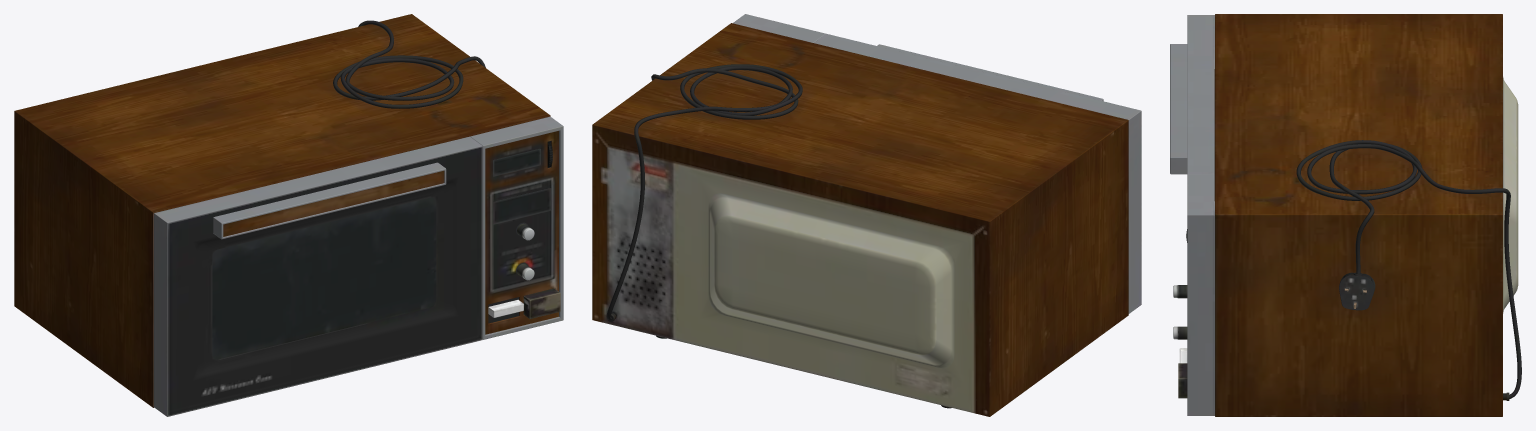
Rendered from vintage_microwave.glb.
3 views of the same model, side by side, from view 1: azimuth 30°, elevation 25°; view 2: azimuth 150°, elevation 25°; view 3: azimuth 270°, elevation 25° (orthographic). The views are drawn at different scales.
Visible parts, largest first — view 1: vintage_microwave; view 2: vintage_microwave; view 3: vintage_microwave.
Boxes of the visible parts, bbox=[...] form: vintage_microwave: bbox=[14, 14, 563, 416]; vintage_microwave: bbox=[592, 14, 1141, 416]; vintage_microwave: bbox=[1170, 14, 1521, 416].
Bounding box in the file's own units: 1.07 × 0.5258 × 0.7456.
Materials: 2 (2 with a texture image).
